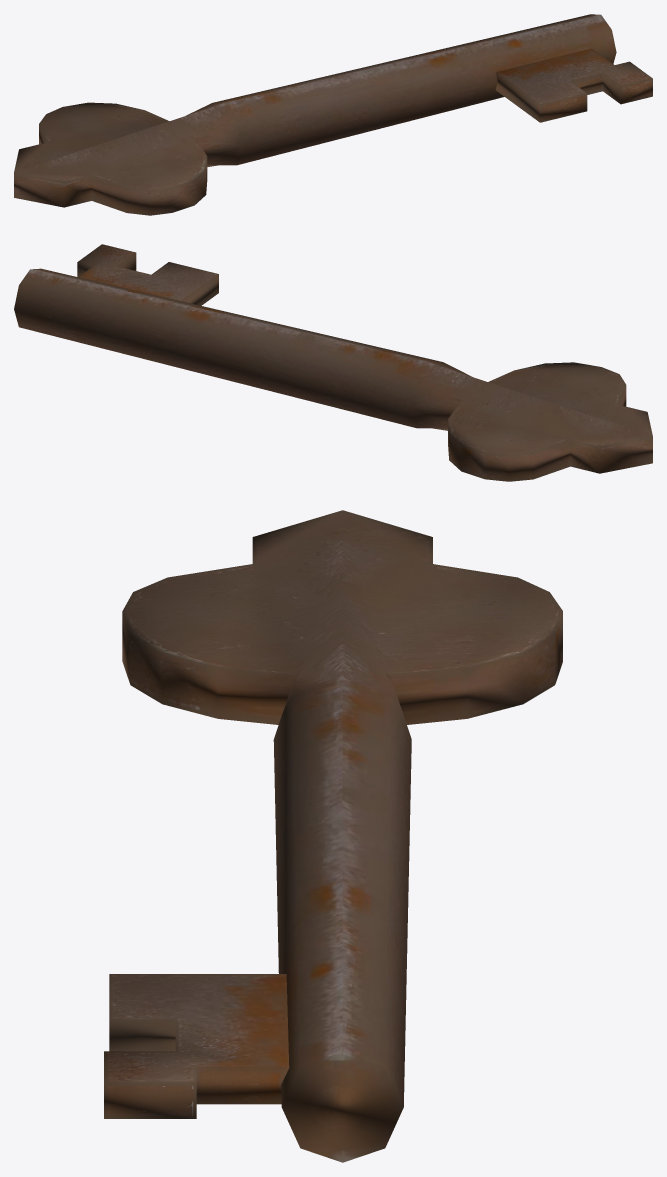
Rendered from Prop_Key01_Skeleton.glb.
3 renders of one model, top to bottom at view 1: azimuth 30°, elevation 25°; view 2: azimuth 150°, elevation 25°; view 3: azimuth 270°, elevation 25°, orthographic. The views are drawn at different scales.
Visible parts, largest first — view 1: tripo_node_565bdeac-75f4-4088-9d7d-0f65240b9718; view 2: tripo_node_565bdeac-75f4-4088-9d7d-0f65240b9718; view 3: tripo_node_565bdeac-75f4-4088-9d7d-0f65240b9718.
Part boxes in pixels (<box>): tripo_node_565bdeac-75f4-4088-9d7d-0f65240b9718: <box>14,14,652,215</box>; tripo_node_565bdeac-75f4-4088-9d7d-0f65240b9718: <box>14,244,652,481</box>; tripo_node_565bdeac-75f4-4088-9d7d-0f65240b9718: <box>104,510,562,1162</box>.
Bounding box in the file's own units: 2.5 × 0.25 × 0.848.
1 material, 1 textured.
